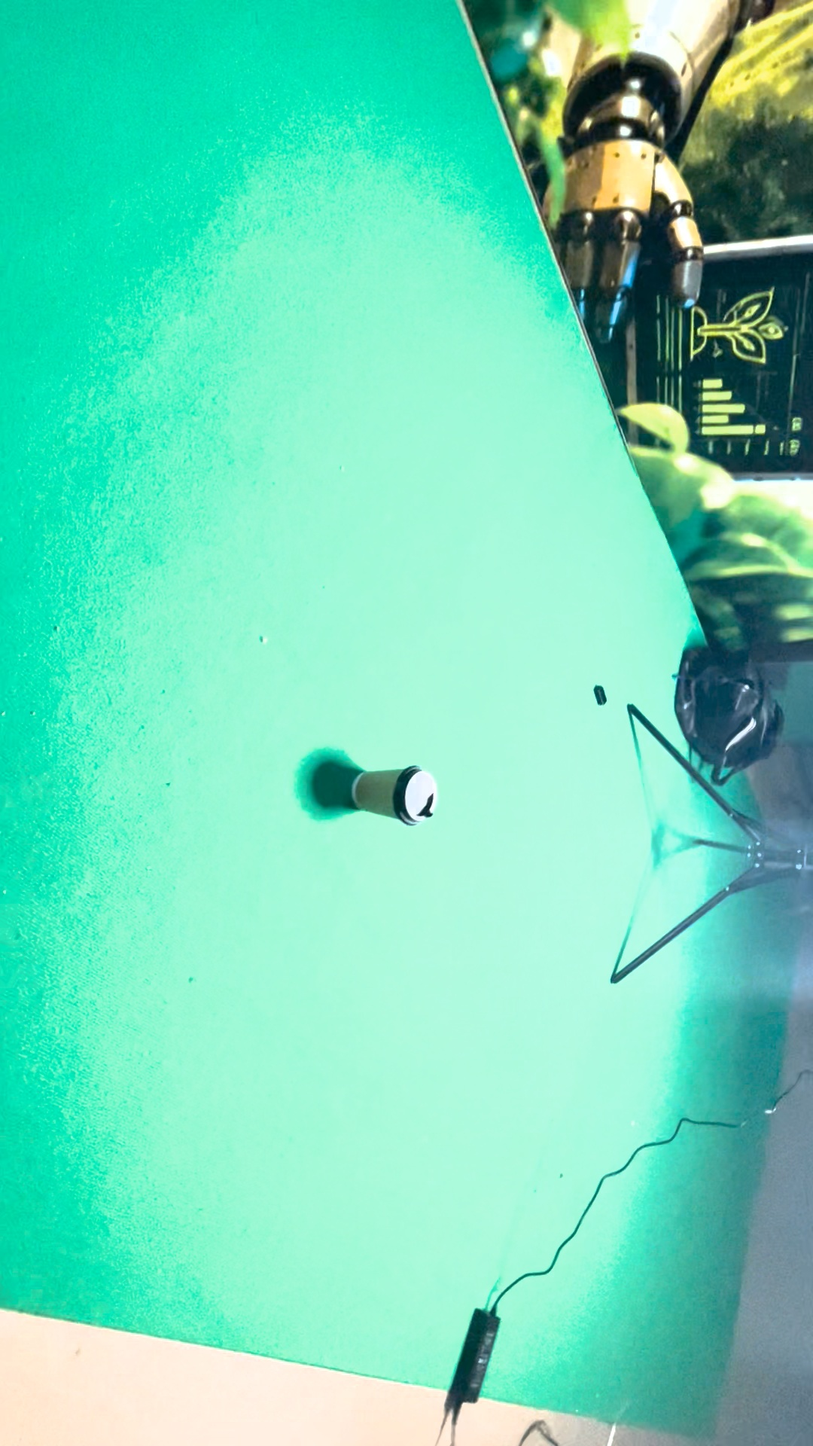cup: (432, 850, 511, 1241)
